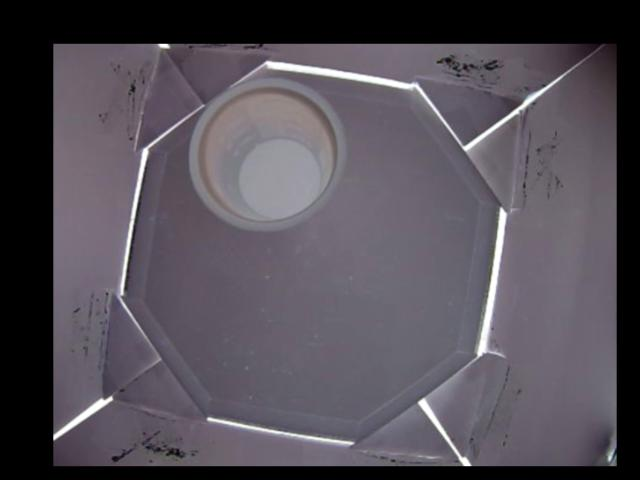Cup: (188, 78, 341, 232)
